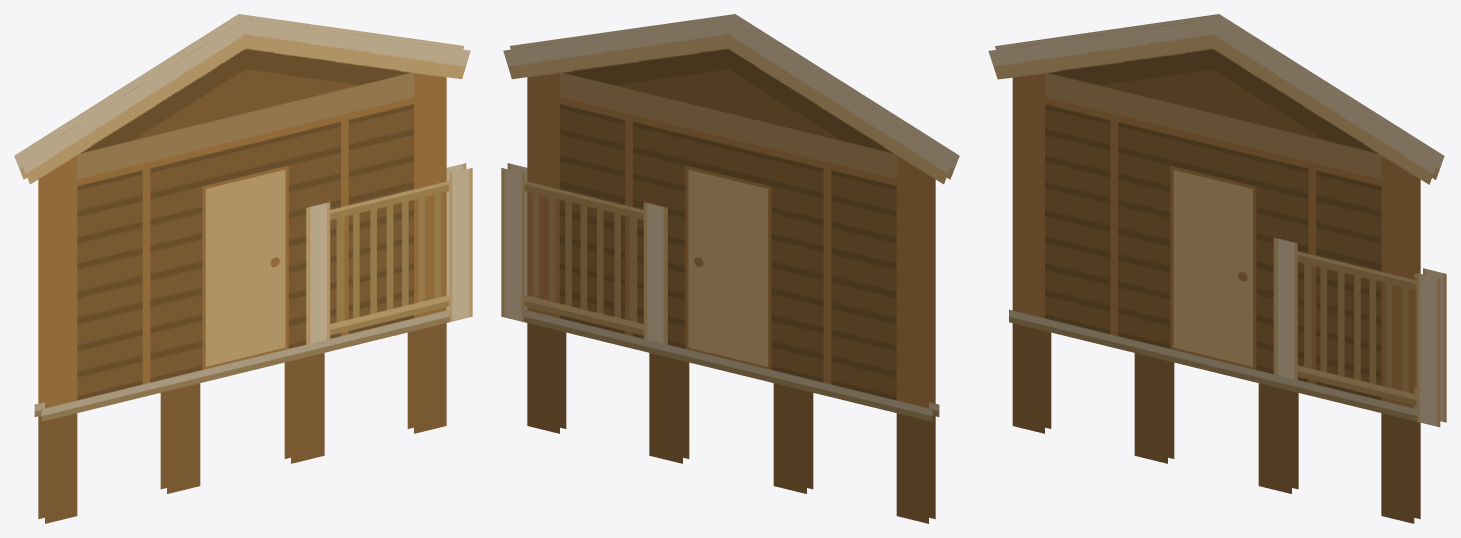
File: loghouse_A.fbx
3 views of the same model, side by side, from view 1: azimuth 30°, elevation 25°; view 2: azimuth 150°, elevation 25°; view 3: azimuth 330°, elevation 25° (orthographic).
Parts seen in each view (by area): view 1: grid30, grid32; view 2: grid32, grid30; view 3: grid30, grid32.
Boxes of the visible parts, x1=… form: grid30: x1=20, y1=18, x2=472, y2=523; grid32: x1=14, y1=14, x2=466, y2=519; grid32: x1=501, y1=18, x2=953, y2=523; grid30: x1=507, y1=14, x2=959, y2=519; grid30: x1=988, y1=18, x2=1440, y2=523; grid32: x1=995, y1=14, x2=1446, y2=519.
Size of the model in its own units: 405 by 391 by 10.
